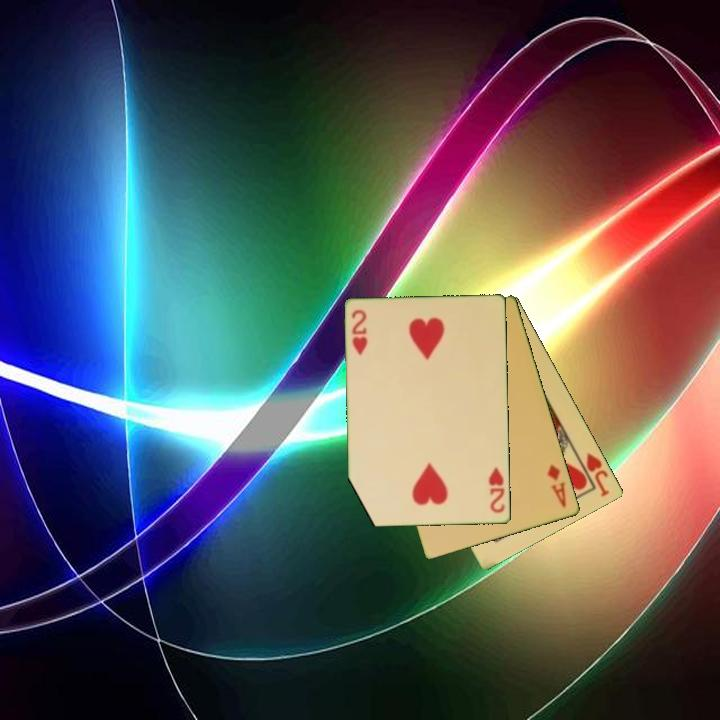2h: (485, 464, 508, 516), (349, 307, 370, 358)
Ad: (544, 461, 570, 510)
Jh: (583, 449, 613, 500)
